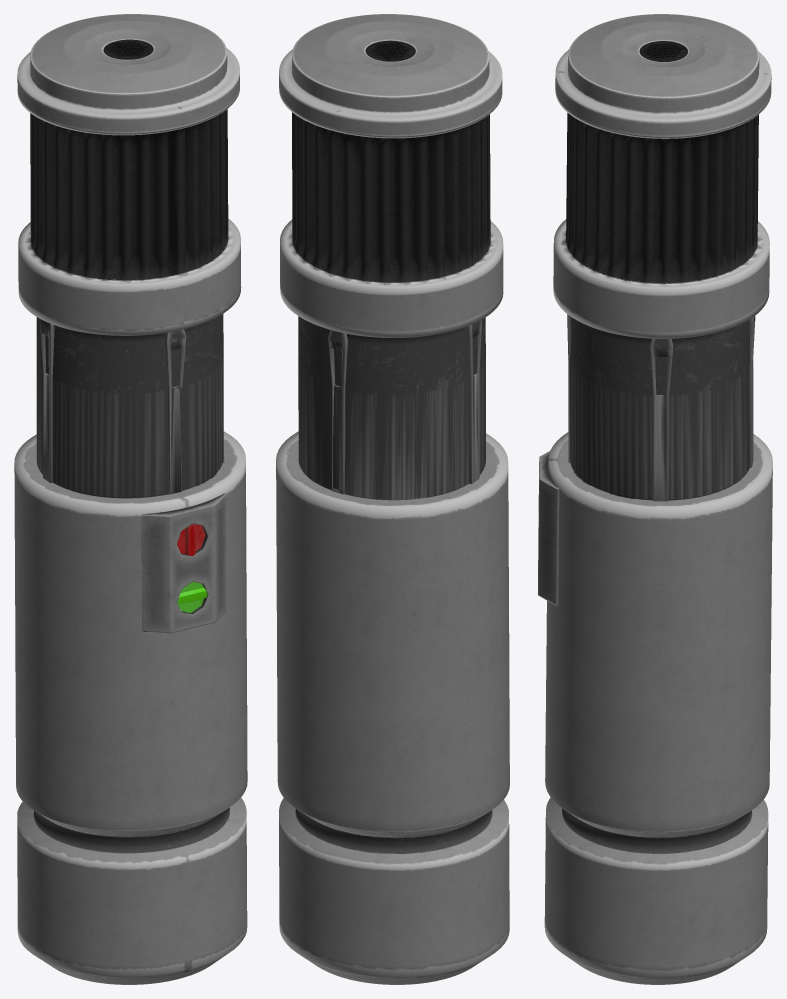
The model's file is Device_2.fbx.
3 renders of one model, left to right at view 1: azimuth 30°, elevation 25°; view 2: azimuth 150°, elevation 25°; view 3: azimuth 270°, elevation 25°, orthographic.
Visible parts, largest first — view 1: defaultMaterial.001; view 2: defaultMaterial.001; view 3: defaultMaterial.001.
Part boxes in pixels (x1,y1,x2,y2): defaultMaterial.001: (14,14,247,984); defaultMaterial.001: (276,14,509,984); defaultMaterial.001: (538,14,772,984).
Size of the model in its own units: 53.1 by 226 by 53.43.
1 material, 1 textured.
